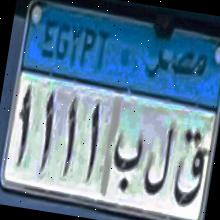1: (78, 96, 111, 183), (34, 88, 62, 172), (7, 87, 36, 168), (57, 96, 84, 176)
baa: (108, 130, 144, 198)
laam: (140, 116, 176, 205)
qaaf: (166, 115, 212, 216)
